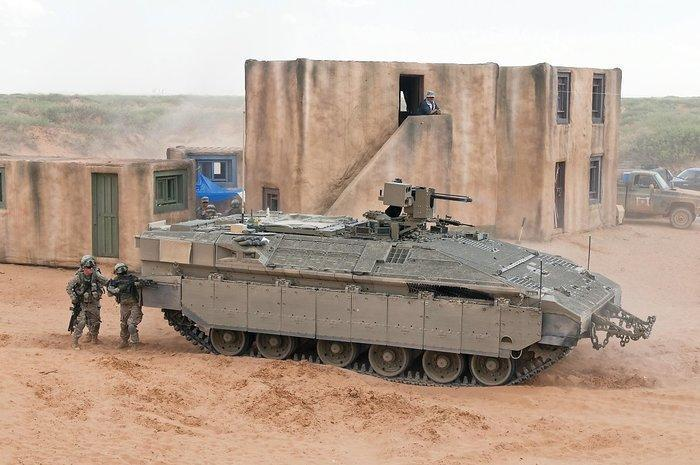MIL_IFV: (137, 181, 657, 386)
